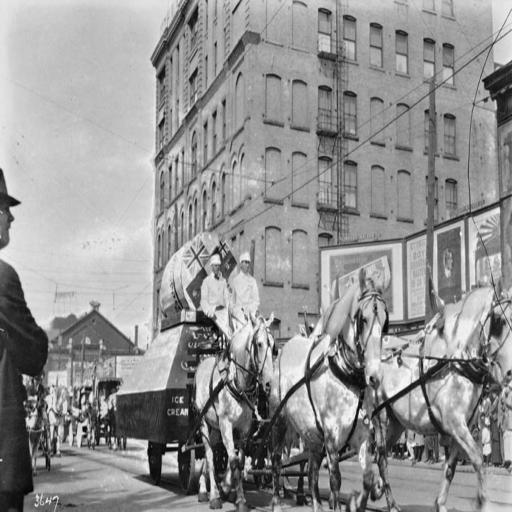horse: (346, 276, 512, 512), (269, 266, 389, 512), (194, 307, 276, 511)
